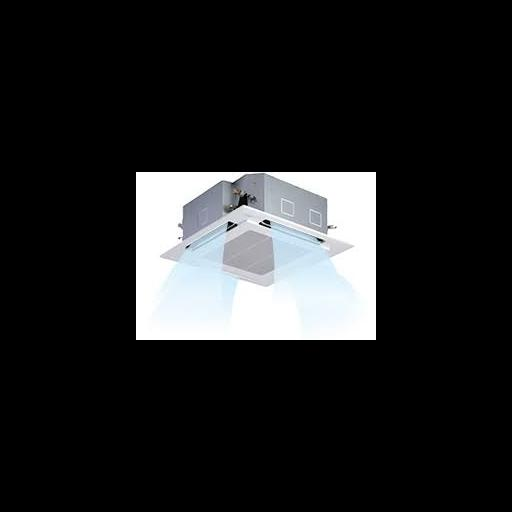4-way-ac: (159, 204, 355, 287)
